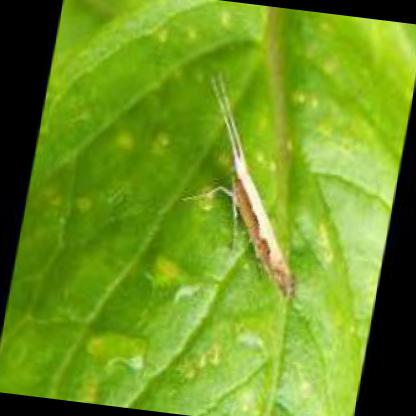plutella: (195, 72, 291, 304)
